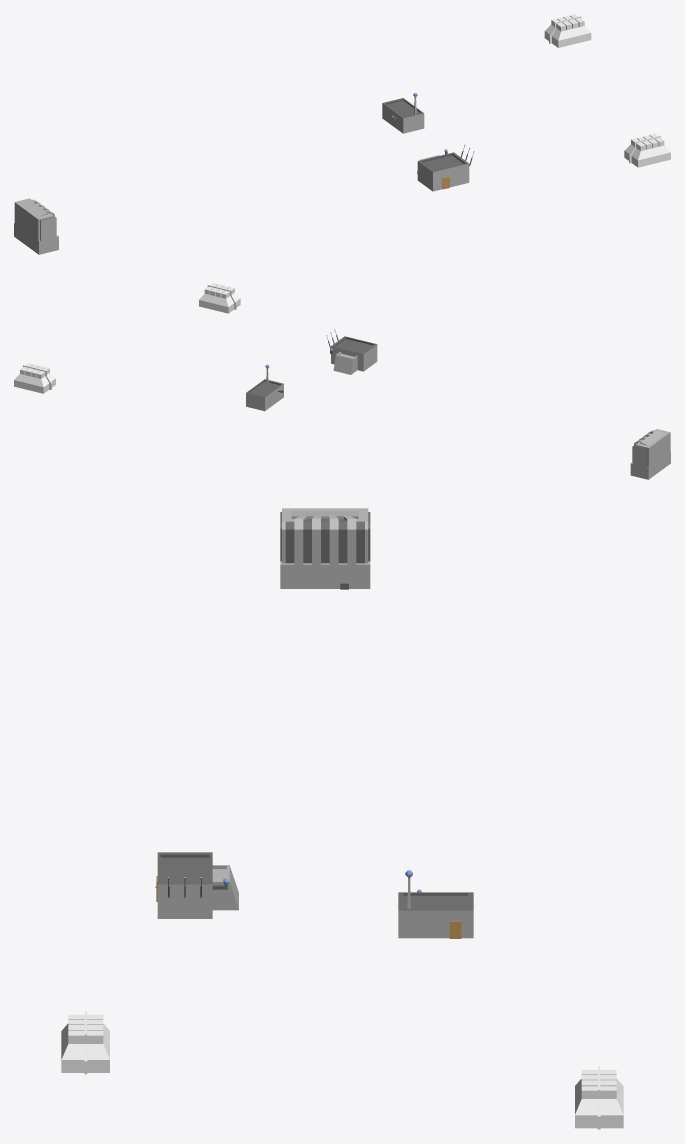
Rendered from miniPods.glb.
3 views of the same model, one above another, from view 1: azimuth 30°, elevation 25°; view 2: azimuth 150°, elevation 25°; view 3: azimuth 270°, elevation 25° (orthographic). The views are drawn at different scales.
Parts seen in each view (by area): view 1: Подстанция2; view 2: Подстанция2; view 3: Подстанция2.
Boxes of the visible parts, box(x1,y1,x2,y2) form: Подстанция2: box(14, 14, 670, 254); Подстанция2: box(14, 283, 670, 479); Подстанция2: box(61, 508, 623, 1129).
Size of the model in its own units: 137 by 7.48 by 58.08.
